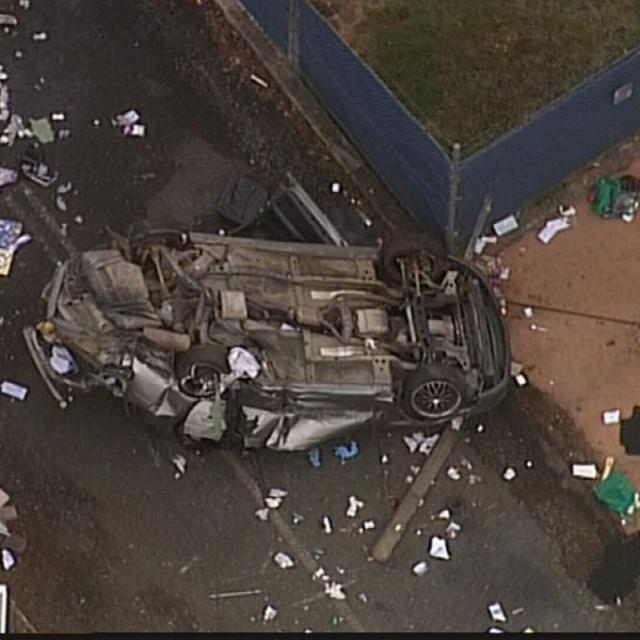traffic_incident: (38, 206, 512, 461)
